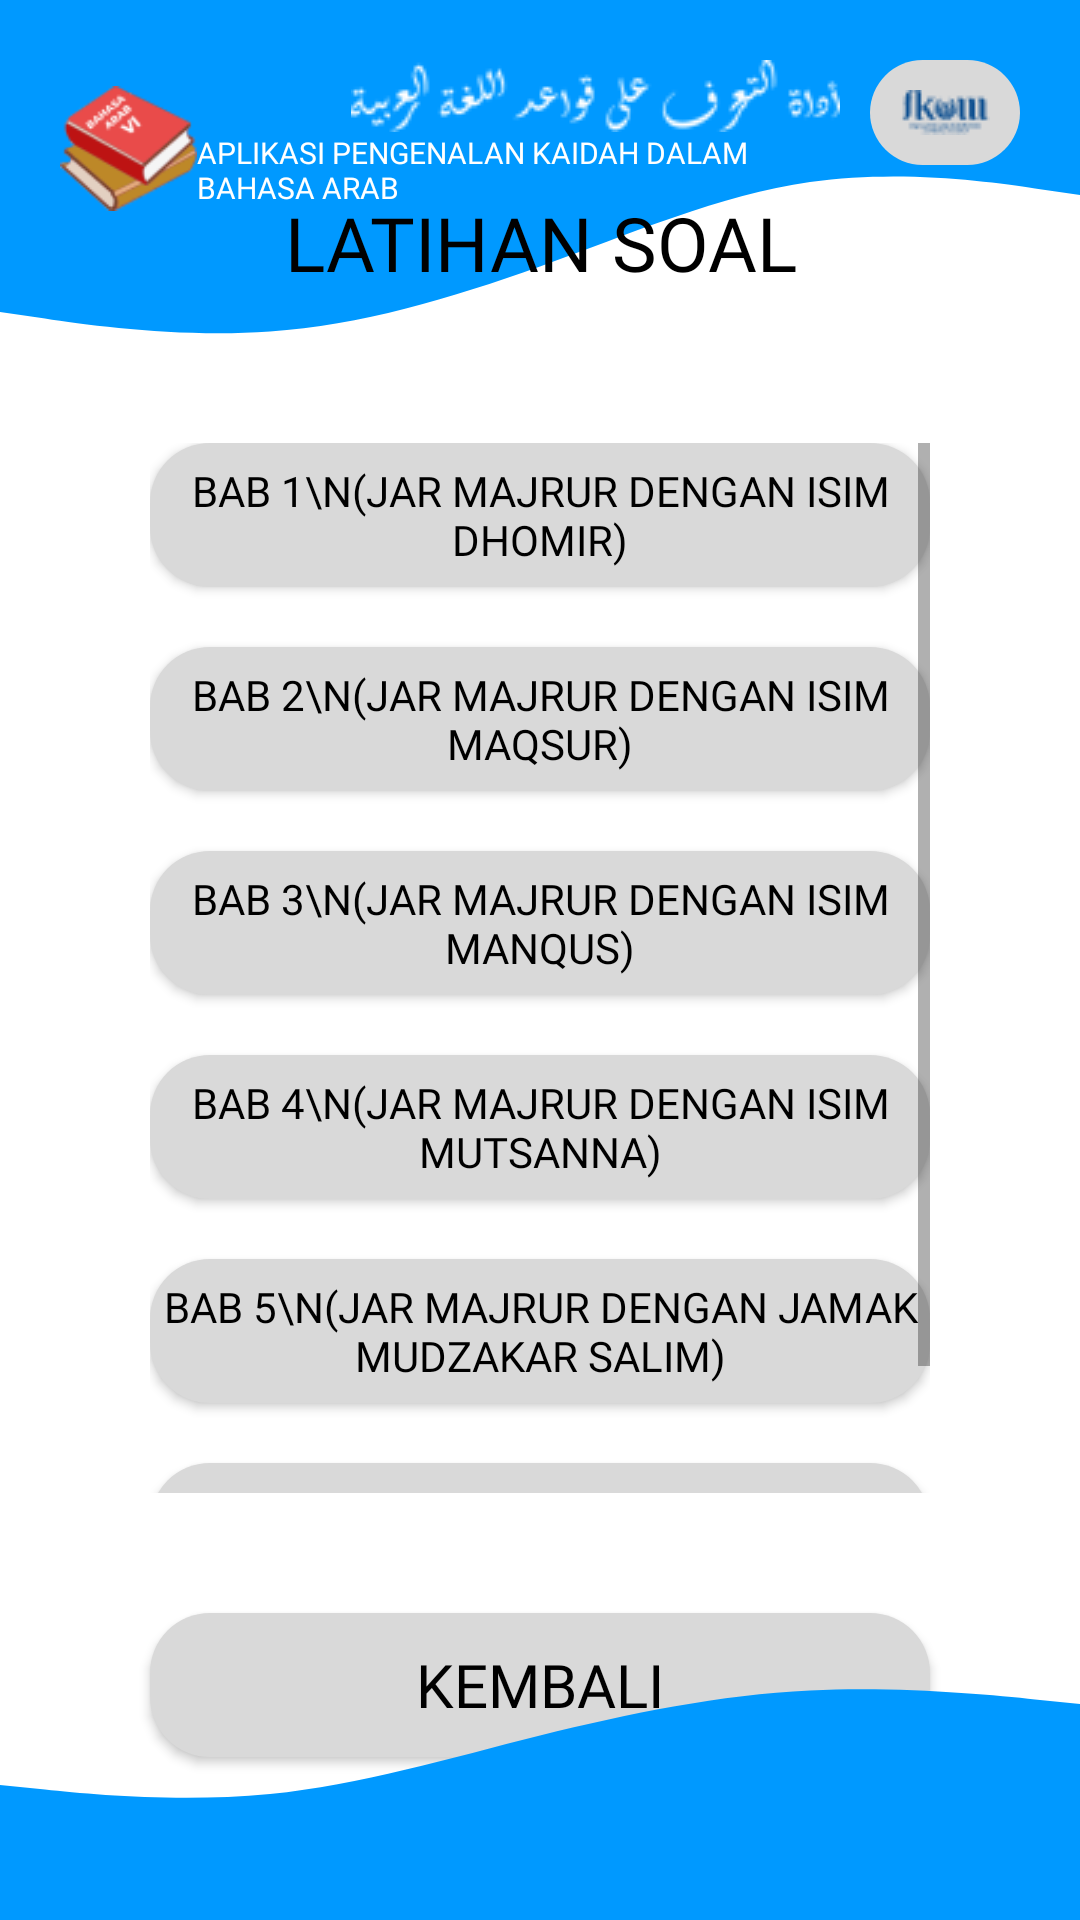

Named icons in this screenshot (1080w x 1920h) and their centers, (x=x, y=y):
buku: (x=128, y=148)
